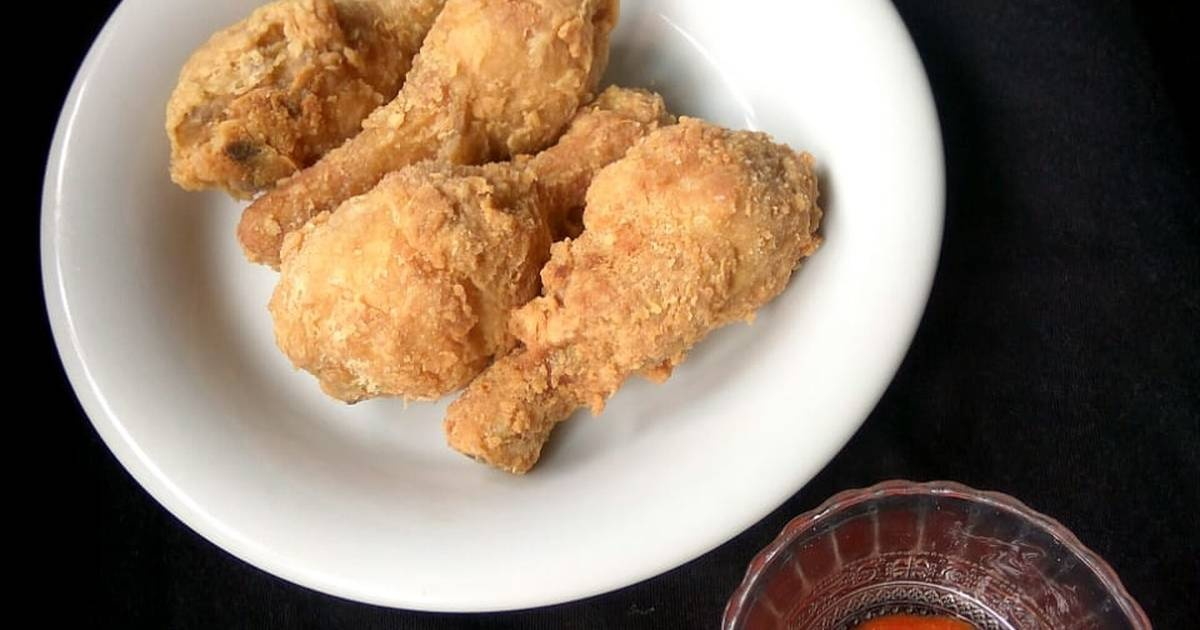ayam_goreng: (237, 84, 674, 407), (431, 116, 829, 465)
